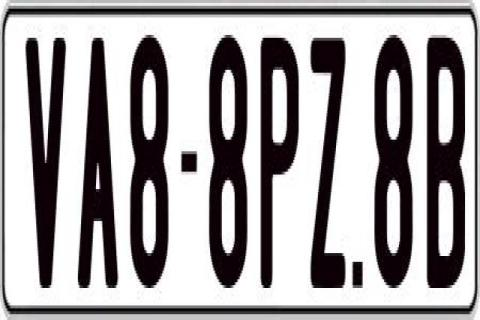0: (130, 26, 168, 291), (373, 29, 411, 294), (210, 29, 248, 291)
A: (78, 35, 124, 285)
B: (424, 32, 459, 282)
P: (260, 38, 299, 294)
V: (26, 29, 70, 285)
Z: (308, 32, 350, 288)
